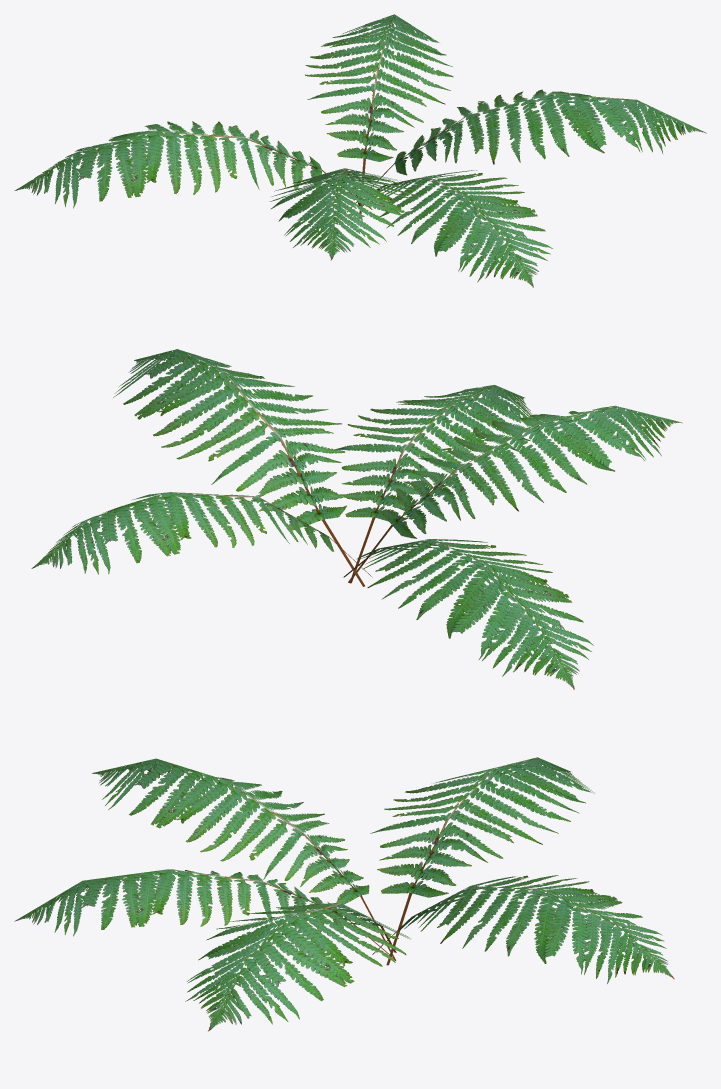
The model's file is Fern_02_03 - Copy.obj.
The picture shows the model from 3 angles, top to bottom: view 1: azimuth 30°, elevation 25°; view 2: azimuth 150°, elevation 25°; view 3: azimuth 270°, elevation 25°; orthographic projection. The views are drawn at different scales.
Visible parts, largest first — view 1: polySurface11; view 2: polySurface11; view 3: polySurface11.
Boxes of the visible parts, x1,y1,x2,y2 form: polySurface11: (14,14,706,287); polySurface11: (31,349,682,689); polySurface11: (14,757,674,1031).
Bounding box in the file's own units: 28.26 × 5.32 × 25.25.
1 material, 1 textured.
